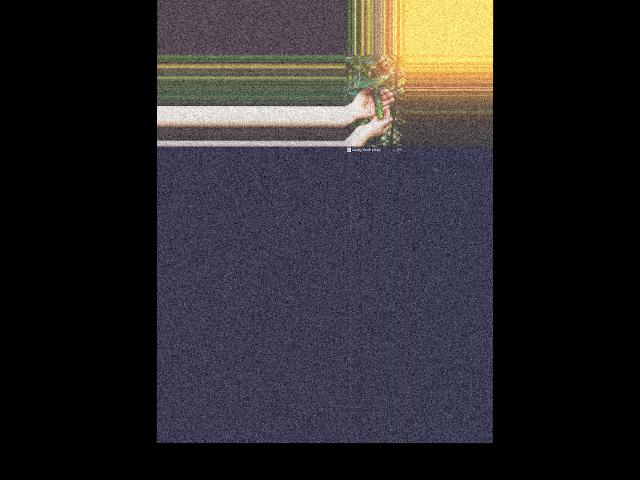cucumber: (372, 88, 383, 119)
